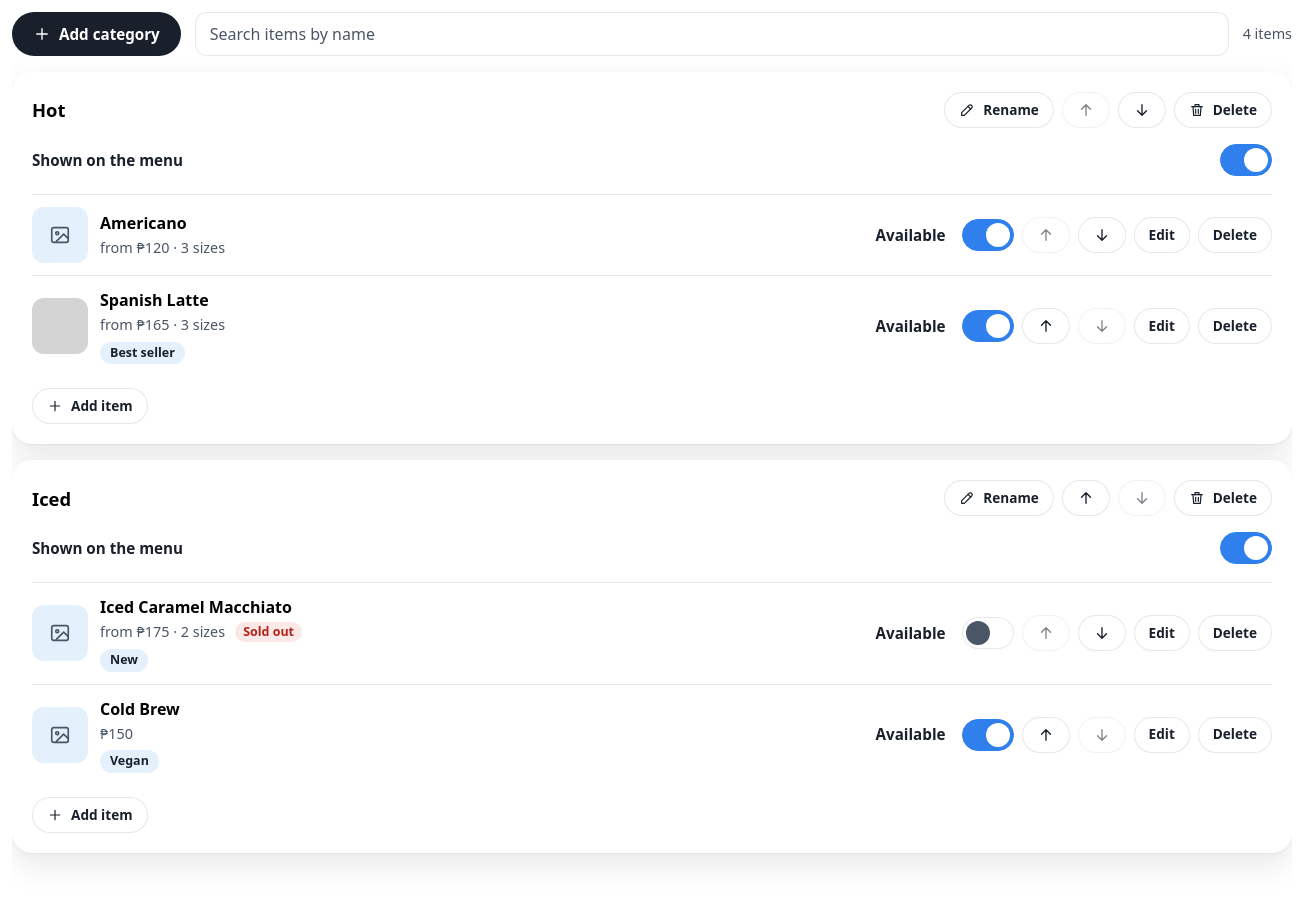
Scenario: ItemsTab adds a category › closes with Escape or Cancel without saving
Click the button "Add category" at (96, 34), box [12, 12, 181, 56]
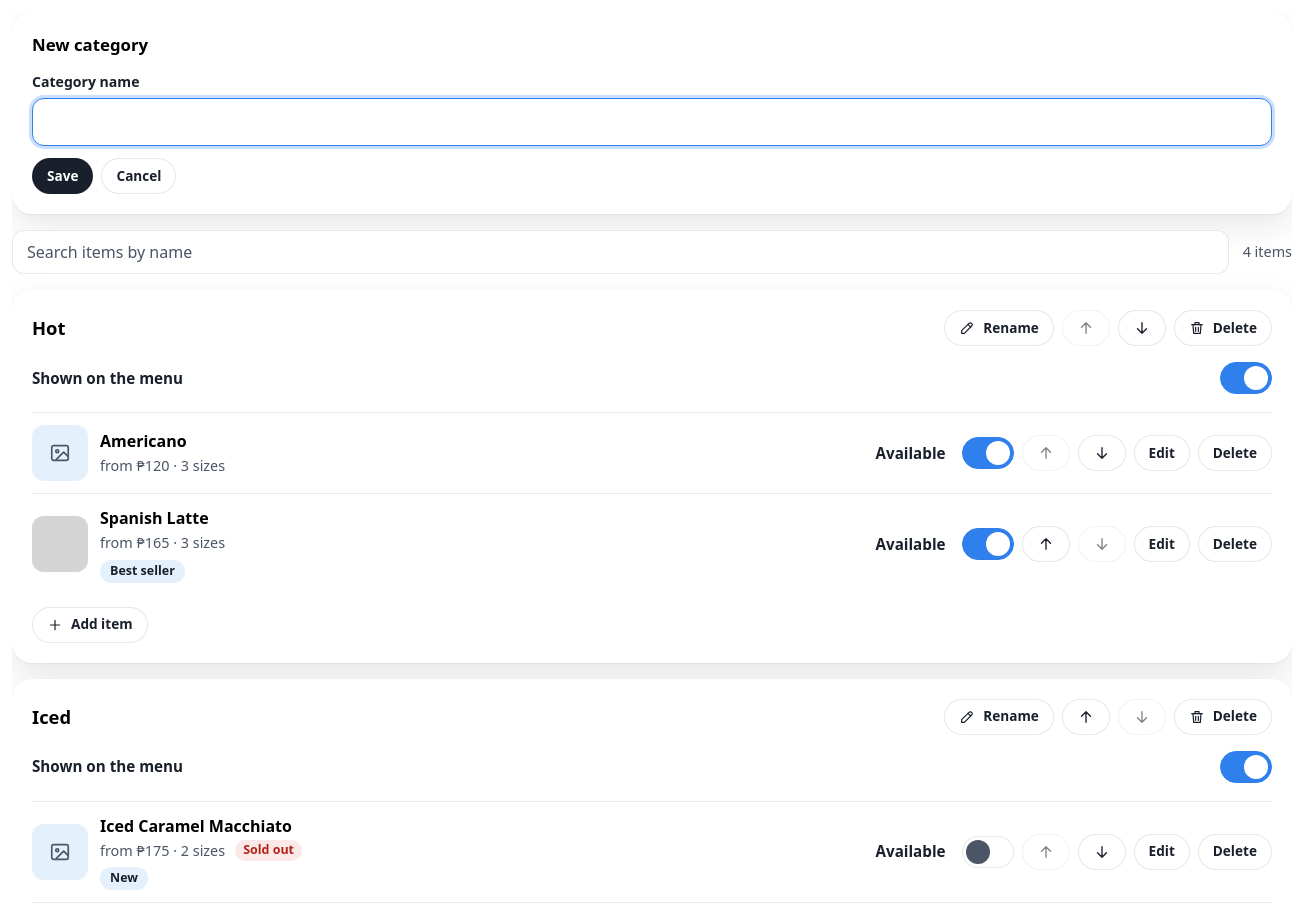
Type "Nope" into the field labelled "Category name" at (652, 122), box [32, 98, 1272, 146]
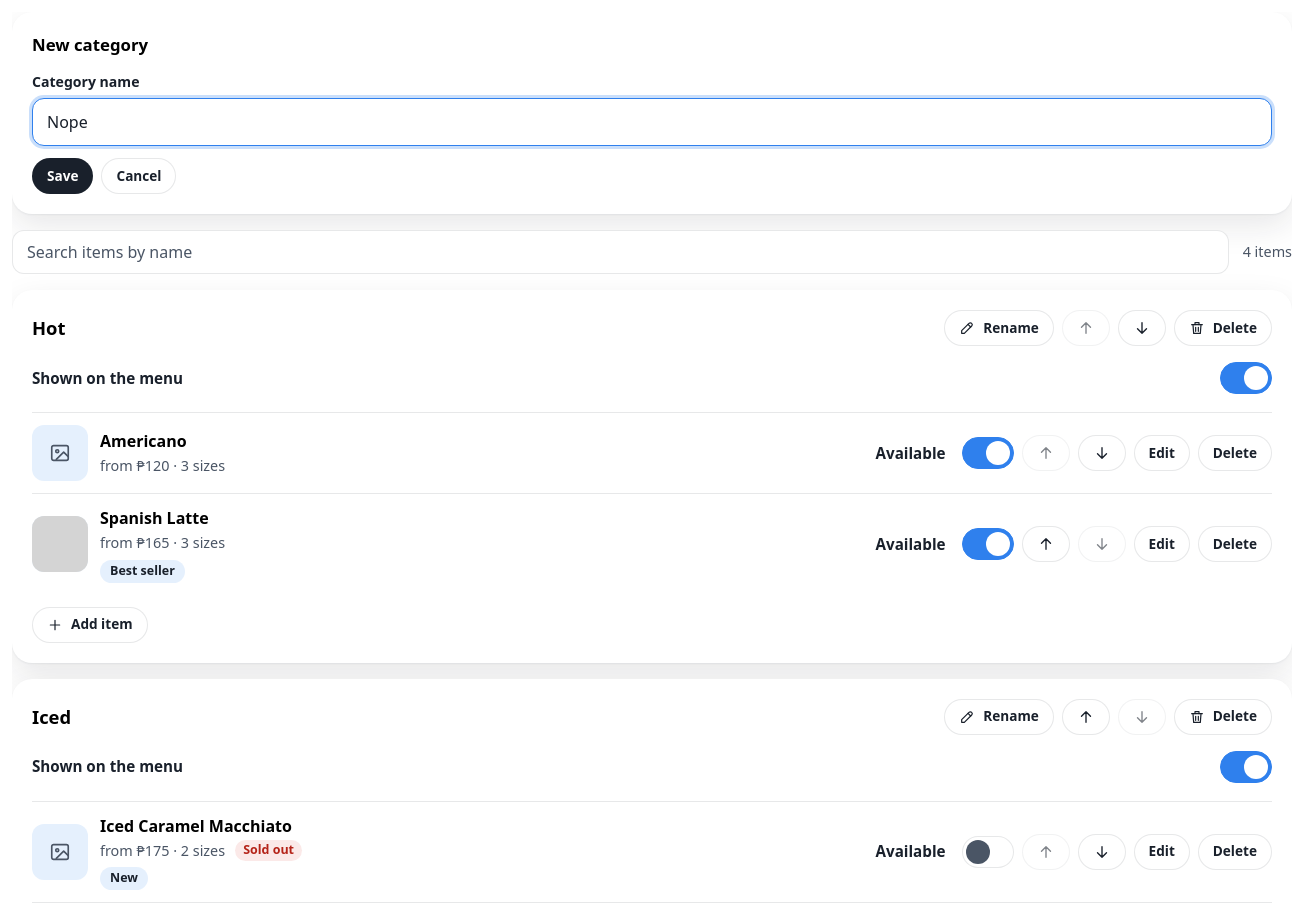
Press Escape
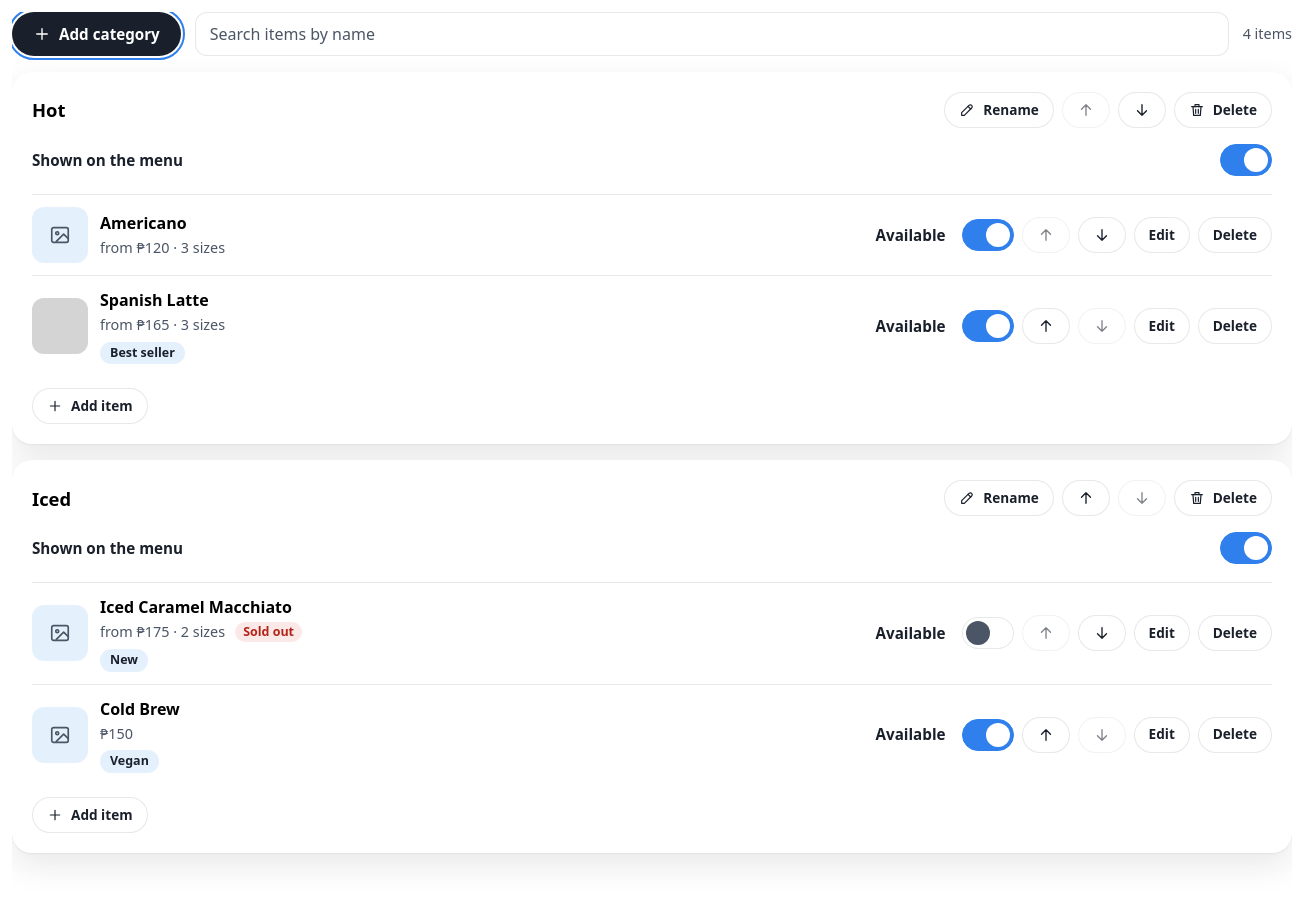
Check: the label "Category name" is gone
